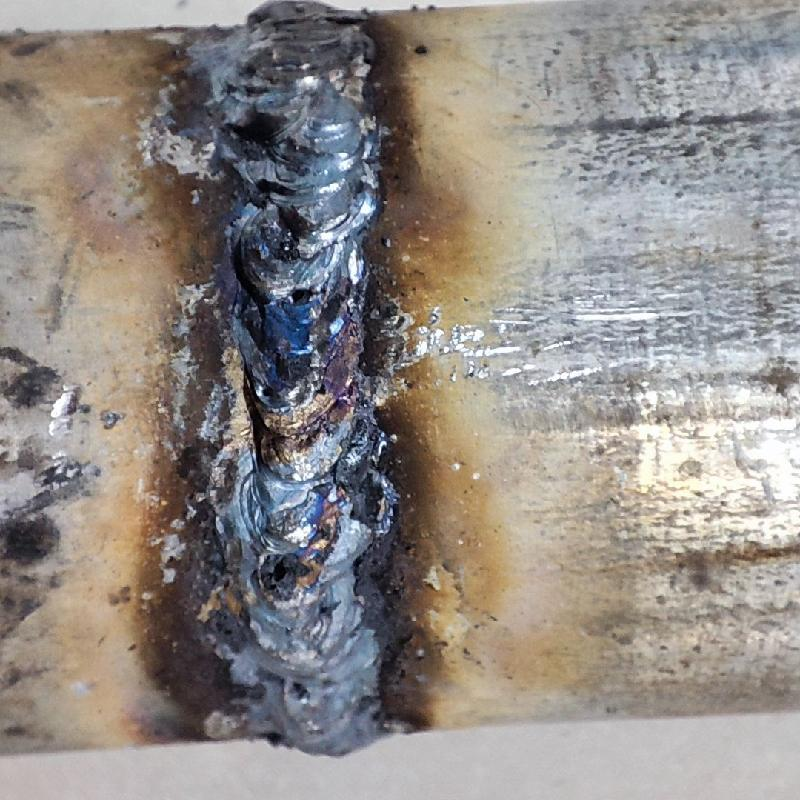Surface_pores: (255, 556, 303, 594), (252, 355, 294, 398), (274, 270, 318, 311)
